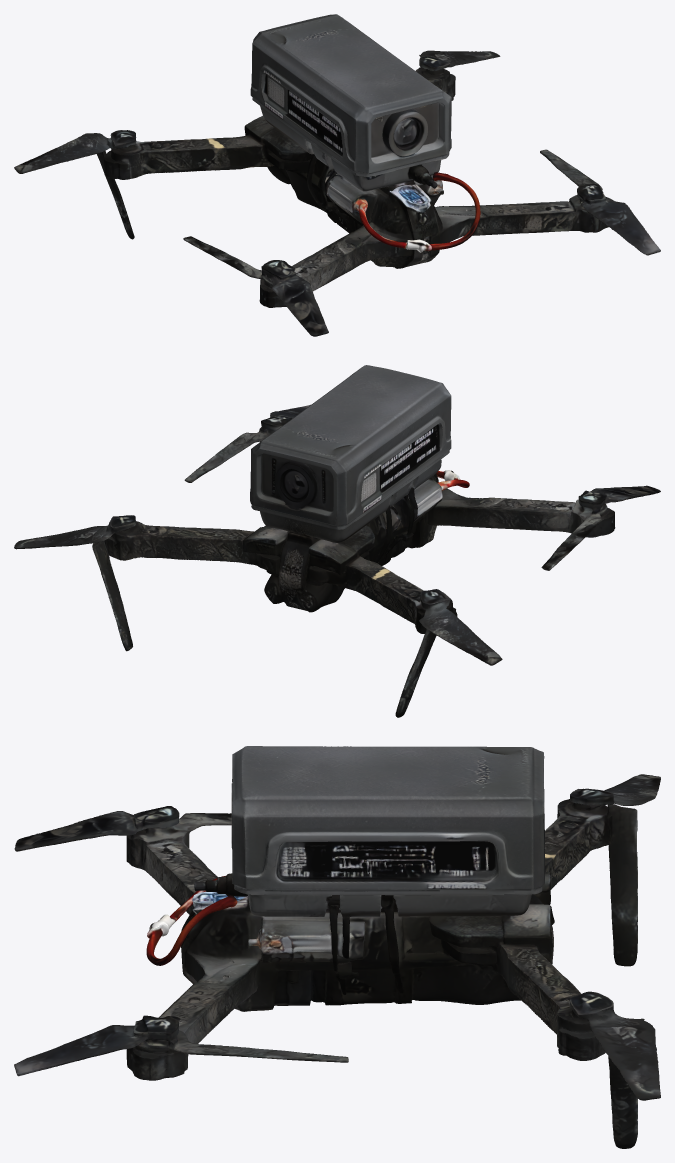
Rendered from base_basic_pbr.glb.
The picture shows the model from 3 angles, top to bottom: view 1: azimuth 30°, elevation 25°; view 2: azimuth 150°, elevation 25°; view 3: azimuth 270°, elevation 25°; orthographic projection. The views are drawn at different scales.
Visible parts, largest first — view 1: model; view 2: model; view 3: model.
Part boxes in pixels (bbox=[...]): model: bbox=[14, 14, 660, 336]; model: bbox=[14, 365, 660, 717]; model: bbox=[14, 746, 660, 1148].
Size of the model in its own units: 1.87 by 0.7704 by 1.58.
Materials: 1 (1 with a texture image).
